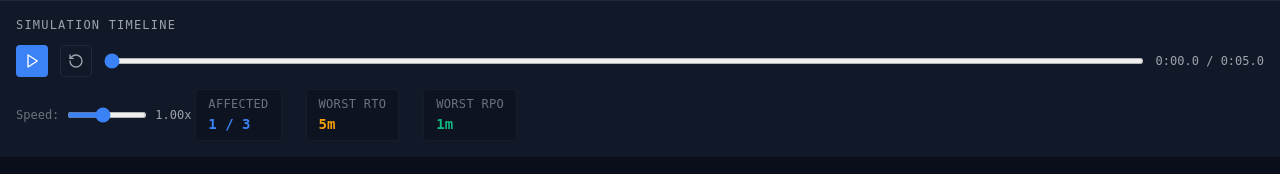
Test case: SimulationTimeline › updates speed display when slider changes
Set the slider next to "Speed:" to "1.5" at (121, 115), box [67,112,147,118]
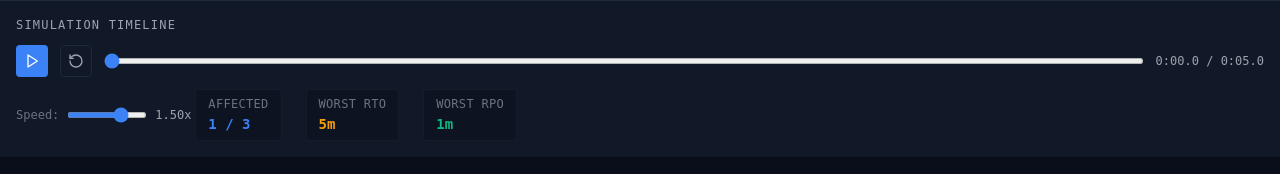
Expected: the text "1.50x" is shown, [155,107,179,123]
